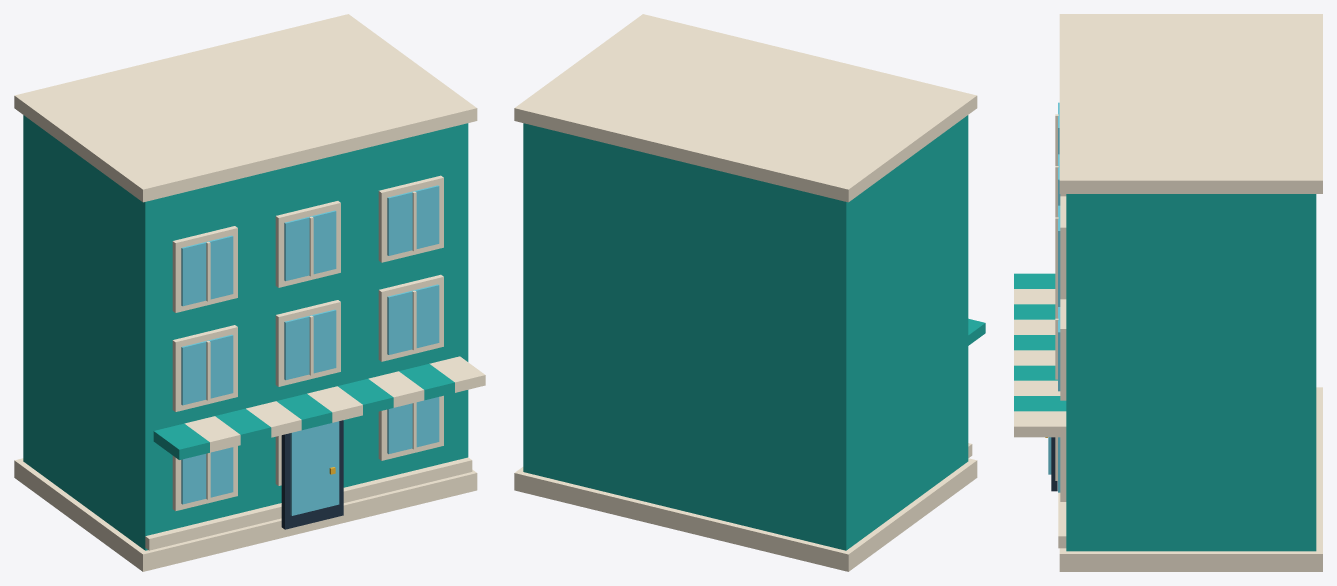
Rendered from 05_shop_teal.obj.
The picture shows the model from 3 angles, left to right: view 1: azimuth 30°, elevation 25°; view 2: azimuth 150°, elevation 25°; view 3: azimuth 270°, elevation 25°; orthographic projection. The views are drawn at different scales.
Visible parts, largest first — view 1: part_1, part_2, part_0, part_3, part_42, part_23, part_14, part_20, part_26, part_29, part_17, part_11 (+20 smaller); view 2: part_1, part_2, part_0; view 3: part_1, part_2, part_0, part_40, part_39, part_28, part_38, part_19, part_37, part_33, part_36, part_31 (+5 smaller).
Boxes of the visible parts, x1=… form: part_1: x1=23, y1=115, x2=468, y2=550; part_2: x1=14, y1=14, x2=477, y2=202; part_0: x1=14, y1=458, x2=477, y2=571; part_3: x1=145, y1=457, x2=472, y2=550; part_42: x1=290, y1=421, x2=339, y2=515; part_23: x1=181, y1=235, x2=233, y2=306; part_14: x1=181, y1=334, x2=233, y2=405; part_20: x1=387, y1=284, x2=439, y2=354; part_26: x1=284, y1=210, x2=336, y2=281; part_29: x1=387, y1=185, x2=439, y2=255; part_17: x1=284, y1=309, x2=336, y2=380; part_11: x1=387, y1=397, x2=439, y2=454; part_1: x1=523, y1=115, x2=968, y2=550; part_2: x1=514, y1=14, x2=977, y2=202; part_0: x1=514, y1=458, x2=977, y2=571; part_1: x1=1066, y1=194, x2=1316, y2=551; part_2: x1=1059, y1=14, x2=1322, y2=193; part_0: x1=1059, y1=387, x2=1322, y2=571; part_40: x1=1014, y1=411, x2=1066, y2=437; part_39: x1=1014, y1=396, x2=1066, y2=411; part_28: x1=1060, y1=196, x2=1066, y2=299; part_38: x1=1014, y1=380, x2=1060, y2=395; part_19: x1=1060, y1=299, x2=1066, y2=400; part_37: x1=1014, y1=365, x2=1057, y2=380; part_33: x1=1014, y1=304, x2=1055, y2=319; part_36: x1=1014, y1=350, x2=1055, y2=365; part_31: x1=1014, y1=273, x2=1055, y2=288.
Bounding box in the file's own units: 6 × 6.56 × 4.7.
